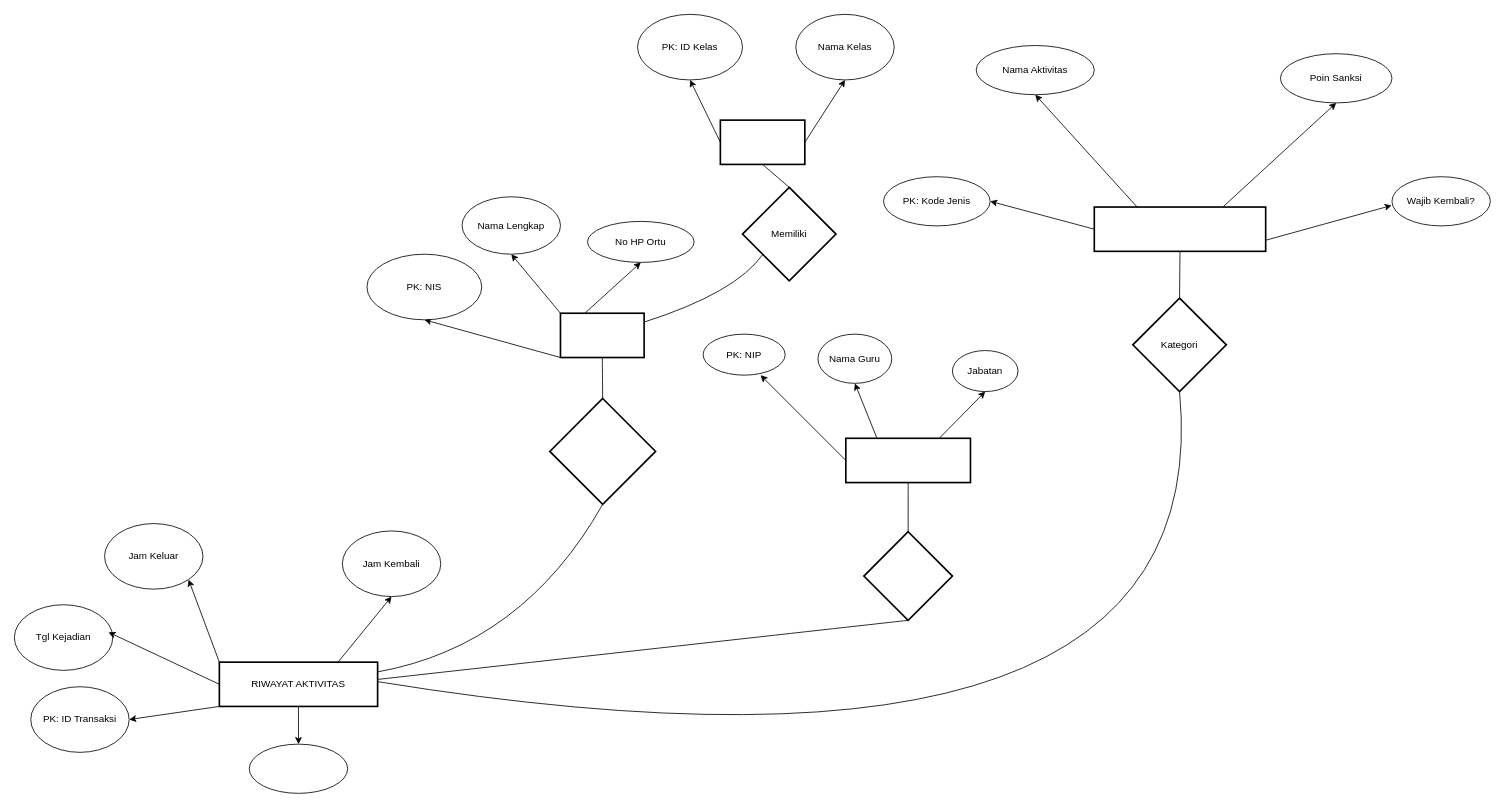
Some shapes in this 1505 by 808 pixel diagram are drawn without their labels. Here are the shapes that lost their labels. From the top down, the centre of each, then its label:
At point 762,142: "KELAS".
At point 1179,229: "JENIS PELANGGARAN".
At point 602,335: "SISWA".
At point 602,451: "Melakukan".
At point 908,460: "GURU / STAF".
At point 908,576: "Validasi".
At point 298,768: "Keterangan".
